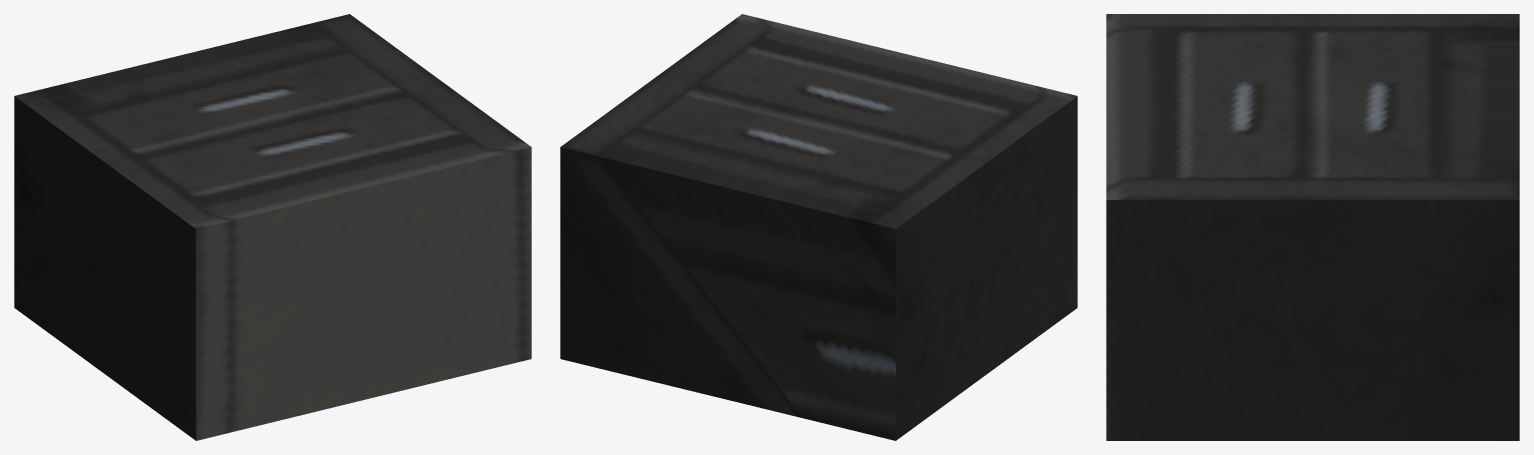
The model's file is pz_house_drawers_dark.obj.
3 views of the same model, side by side, from view 1: azimuth 30°, elevation 25°; view 2: azimuth 150°, elevation 25°; view 3: azimuth 270°, elevation 25° (orthographic). The views are drawn at different scales.
Parts seen in each view (by area): view 1: pz_house_drawers_dark_|_1_corpo_gavetas; view 2: pz_house_drawers_dark_|_1_corpo_gavetas; view 3: pz_house_drawers_dark_|_1_corpo_gavetas.
Part boxes in pixels (x1=…): pz_house_drawers_dark_|_1_corpo_gavetas: x1=14, y1=14, x2=531, y2=440; pz_house_drawers_dark_|_1_corpo_gavetas: x1=560, y1=14, x2=1077, y2=440; pz_house_drawers_dark_|_1_corpo_gavetas: x1=1106, y1=14, x2=1519, y2=440.
Bounding box in the file's own units: 0.9218 × 0.5563 × 0.8651.
Materials: 1 (1 with a texture image).
